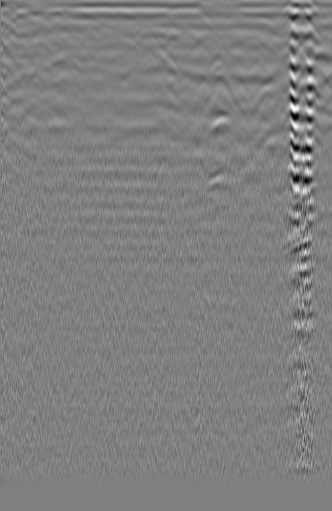가스: (194, 111, 246, 148)
상수: (18, 24, 53, 49)
우수: (131, 25, 163, 53)
